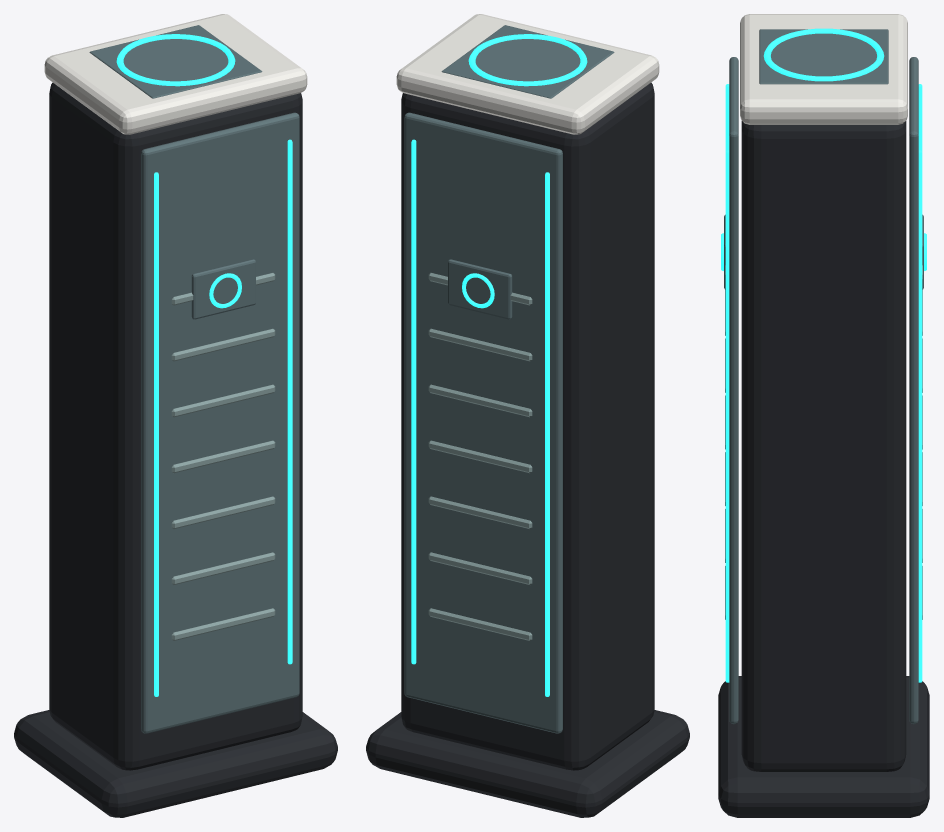
Rendered from net_data_cache.glb.
3 renders of one model, left to right at view 1: azimuth 30°, elevation 25°; view 2: azimuth 150°, elevation 25°; view 3: azimuth 270°, elevation 25°, orthographic.
Visible parts, largest first — view 1: net_data_cache_mesh; view 2: net_data_cache_mesh; view 3: net_data_cache_mesh.
Boxes of the visible parts, x1,y1,x2,y2 form: net_data_cache_mesh: [14, 14, 337, 817]; net_data_cache_mesh: [366, 14, 689, 817]; net_data_cache_mesh: [718, 14, 929, 817].
Bounding box in the file's own units: 0.7 × 2.01 × 0.54.
